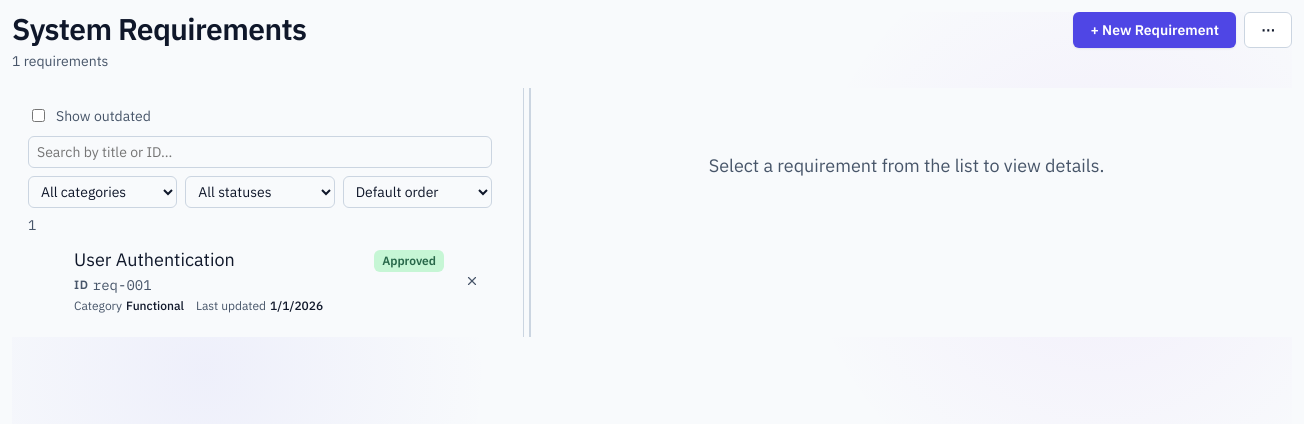
Scenario: RequirementEditors Task 3.1 (ArtifactRow / EmptyState) › shows the no-match variant with only a reset-filters action when the filter matches nothing
The width and height of the screenshot is (1304, 424).
Type "no such requirement title" into the search field with test id "req-list-search-input". click: (260,152)
box: [28, 136, 492, 168]
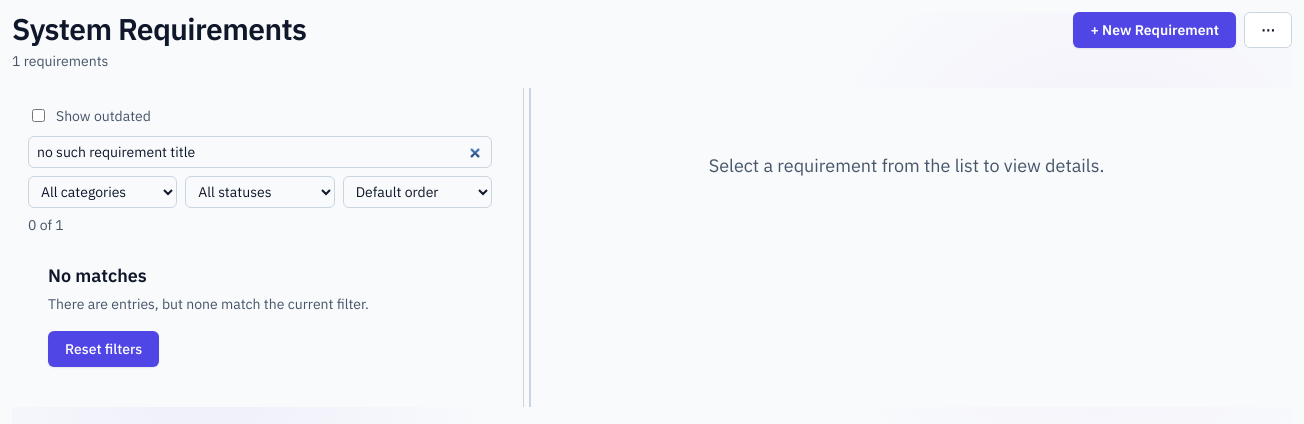
Result: the element with test id "req-list-no-match" is shown at [48, 264, 369, 367]
Result: the button with test id "req-list-no-match-reset-filters" is shown at [48, 331, 159, 367]
